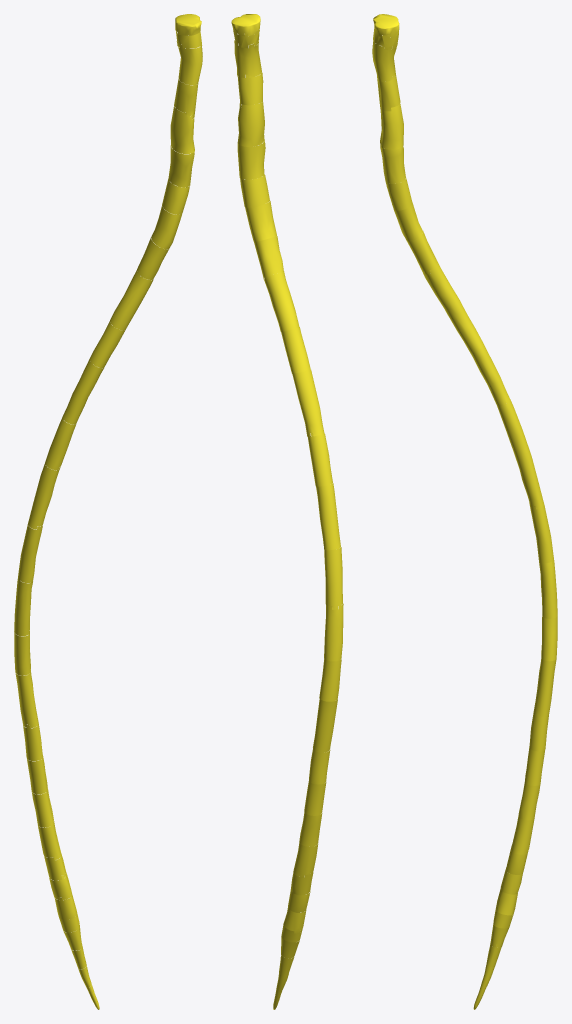
File: vh_m_spinal_cord.glb
3 views of the same model, side by side, from view 1: azimuth 90°, elevation 25°; view 2: azimuth 210°, elevation 25°; view 3: azimuth 270°, elevation 25° (orthographic). The views are drawn at different scales.
Visible parts, largest first — view 1: VH_M_second_thoracic_spinal_cord_segment, VH_M_fourth_thoracic_spinal_cord_segment, VH_M_sixth_thoracic_spinal_cord_segment, VH_M_C5_segment_of_cervical_spinal_cord, VH_M_seventh_thoracic_spinal_cord_segment, VH_M_eighth_thoracic_spinal_cord_segment, VH_M_tenth_thoracic_spinal_cord_segment, VH_M_fifth_thoracic_spinal_cord_segment, VH_M_C3_segment_of_cervical_spinal_cord, VH_M_C8_segment_of_cervical_spinal_cord, VH_M_third_thoracic_spinal_cord_segment, VH_M_C6_segment_of_cervical_spinal_cord (+9 smaller); view 2: VH_M_fourth_thoracic_spinal_cord_segment, VH_M_second_thoracic_spinal_cord_segment, VH_M_sixth_thoracic_spinal_cord_segment, VH_M_C5_segment_of_cervical_spinal_cord, VH_M_seventh_thoracic_spinal_cord_segment, VH_M_eighth_thoracic_spinal_cord_segment, VH_M_fifth_thoracic_spinal_cord_segment, VH_M_tenth_thoracic_spinal_cord_segment, VH_M_C6_segment_of_cervical_spinal_cord, VH_M_C8_segment_of_cervical_spinal_cord, VH_M_third_thoracic_spinal_cord_segment, VH_M_first_thoracic_spinal_cord_segment (+13 smaller); view 3: VH_M_second_thoracic_spinal_cord_segment, VH_M_fourth_thoracic_spinal_cord_segment, VH_M_sixth_thoracic_spinal_cord_segment, VH_M_C5_segment_of_cervical_spinal_cord, VH_M_tenth_thoracic_spinal_cord_segment, VH_M_seventh_thoracic_spinal_cord_segment, VH_M_eighth_thoracic_spinal_cord_segment, VH_M_fifth_thoracic_spinal_cord_segment, VH_M_C6_segment_of_cervical_spinal_cord, VH_M_C3_segment_of_cervical_spinal_cord, VH_M_third_thoracic_spinal_cord_segment, VH_M_ninth_thoracic_spinal_cord_segment (+9 smaller).
Part boxes in pixels (x1=…): VH_M_second_thoracic_spinal_cord_segment: x1=110, y1=270, x2=153, y2=330; VH_M_fourth_thoracic_spinal_cord_segment: x1=62, y1=359, x2=103, y2=424; VH_M_sixth_thoracic_spinal_cord_segment: x1=28, y1=464, x2=60, y2=529; VH_M_C5_segment_of_cervical_spinal_cord: x1=170, y1=105, x2=194, y2=153; VH_M_seventh_thoracic_spinal_cord_segment: x1=18, y1=524, x2=42, y2=582; VH_M_eighth_thoracic_spinal_cord_segment: x1=14, y1=578, x2=32, y2=636; VH_M_tenth_thoracic_spinal_cord_segment: x1=15, y1=670, x2=38, y2=728; VH_M_fifth_thoracic_spinal_cord_segment: x1=45, y1=417, x2=76, y2=470; VH_M_C3_segment_of_cervical_spinal_cord: x1=176, y1=41, x2=202, y2=85; VH_M_C8_segment_of_cervical_spinal_cord: x1=151, y1=206, x2=181, y2=249; VH_M_third_thoracic_spinal_cord_segment: x1=89, y1=321, x2=124, y2=367; VH_M_C6_segment_of_cervical_spinal_cord: x1=168, y1=145, x2=194, y2=187; VH_M_fourth_thoracic_spinal_cord_segment: x1=292, y1=369, x2=324, y2=436; VH_M_second_thoracic_spinal_cord_segment: x1=264, y1=271, x2=299, y2=331; VH_M_sixth_thoracic_spinal_cord_segment: x1=316, y1=483, x2=340, y2=550; VH_M_C5_segment_of_cervical_spinal_cord: x1=237, y1=102, x2=264, y2=146; VH_M_seventh_thoracic_spinal_cord_segment: x1=324, y1=547, x2=342, y2=609; VH_M_eighth_thoracic_spinal_cord_segment: x1=324, y1=603, x2=343, y2=661; VH_M_fifth_thoracic_spinal_cord_segment: x1=308, y1=433, x2=332, y2=486; VH_M_tenth_thoracic_spinal_cord_segment: x1=313, y1=699, x2=337, y2=752; VH_M_C6_segment_of_cervical_spinal_cord: x1=237, y1=141, x2=265, y2=179; VH_M_C8_segment_of_cervical_spinal_cord: x1=245, y1=201, x2=276, y2=241; VH_M_third_thoracic_spinal_cord_segment: x1=281, y1=327, x2=310, y2=373; VH_M_first_thoracic_spinal_cord_segment: x1=254, y1=236, x2=283, y2=280; VH_M_second_thoracic_spinal_cord_segment: x1=422, y1=261, x2=463, y2=317; VH_M_fourth_thoracic_spinal_cord_segment: x1=470, y1=344, x2=510, y2=406; VH_M_sixth_thoracic_spinal_cord_segment: x1=512, y1=445, x2=543, y2=509; VH_M_C5_segment_of_cervical_spinal_cord: x1=380, y1=103, x2=403, y2=149; VH_M_tenth_thoracic_spinal_cord_segment: x1=533, y1=659, x2=556, y2=716; VH_M_seventh_thoracic_spinal_cord_segment: x1=529, y1=502, x2=554, y2=564; VH_M_eighth_thoracic_spinal_cord_segment: x1=539, y1=562, x2=557, y2=618; VH_M_fifth_thoracic_spinal_cord_segment: x1=497, y1=399, x2=527, y2=450; VH_M_C6_segment_of_cervical_spinal_cord: x1=380, y1=143, x2=405, y2=183; VH_M_C3_segment_of_cervical_spinal_cord: x1=372, y1=41, x2=396, y2=81; VH_M_third_thoracic_spinal_cord_segment: x1=449, y1=308, x2=483, y2=352; VH_M_ninth_thoracic_spinal_cord_segment: x1=541, y1=614, x2=557, y2=661.
Bounding box in the file's own units: 0.0208 × 0.4652 × 0.0797.
